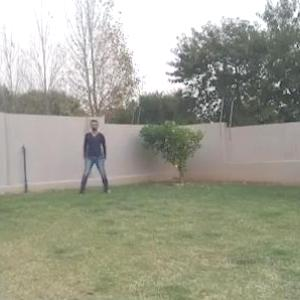follow: (84, 117, 102, 187)
